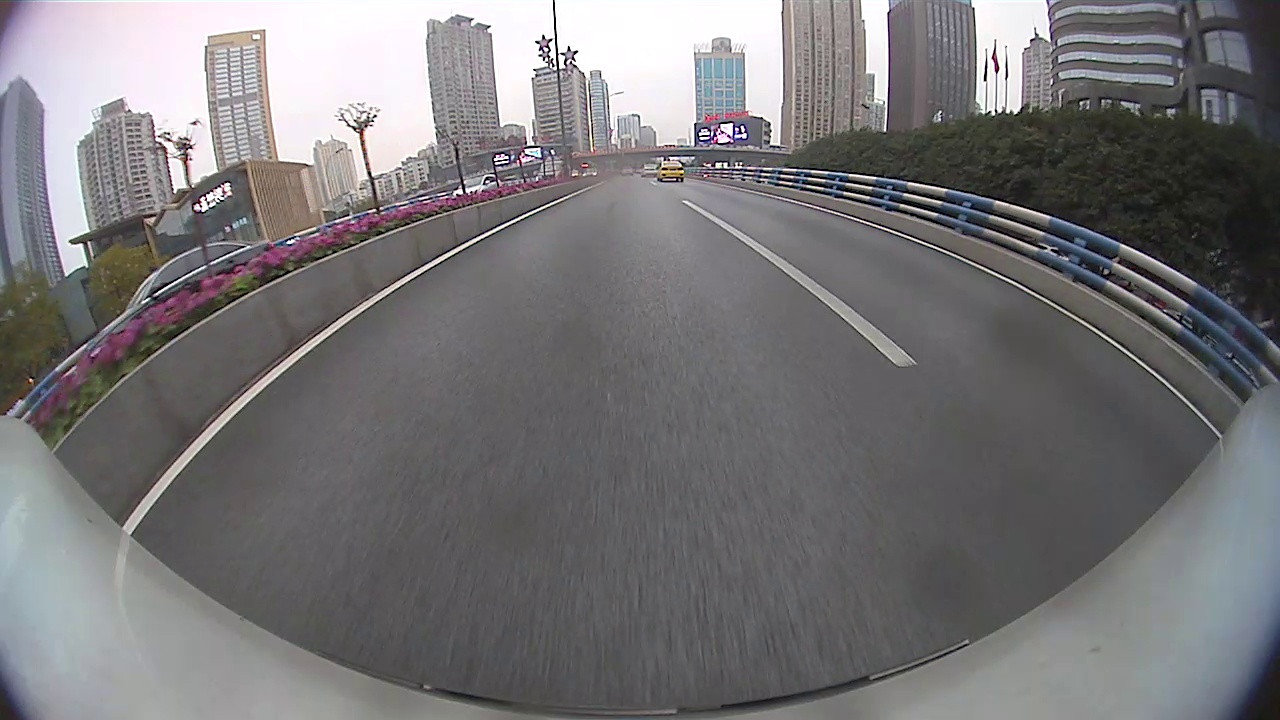car: (73, 233, 278, 364), (445, 171, 506, 201), (653, 156, 690, 186)
